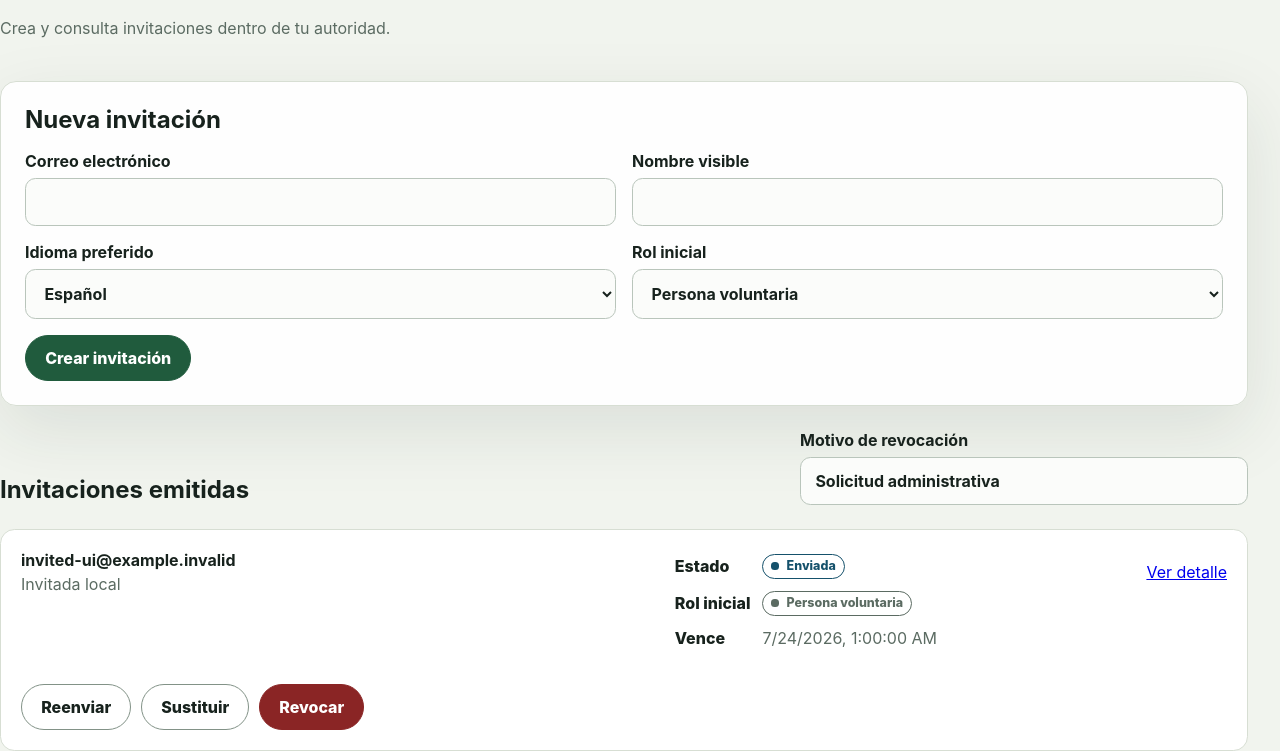
Test: InvitationsPage › requires confirmation before revoking an invitation
This screenshot has width=1280, height=751.
(page scrolled)
Click the button "Revocar" at (312, 706), box 259,684 -> 364,730
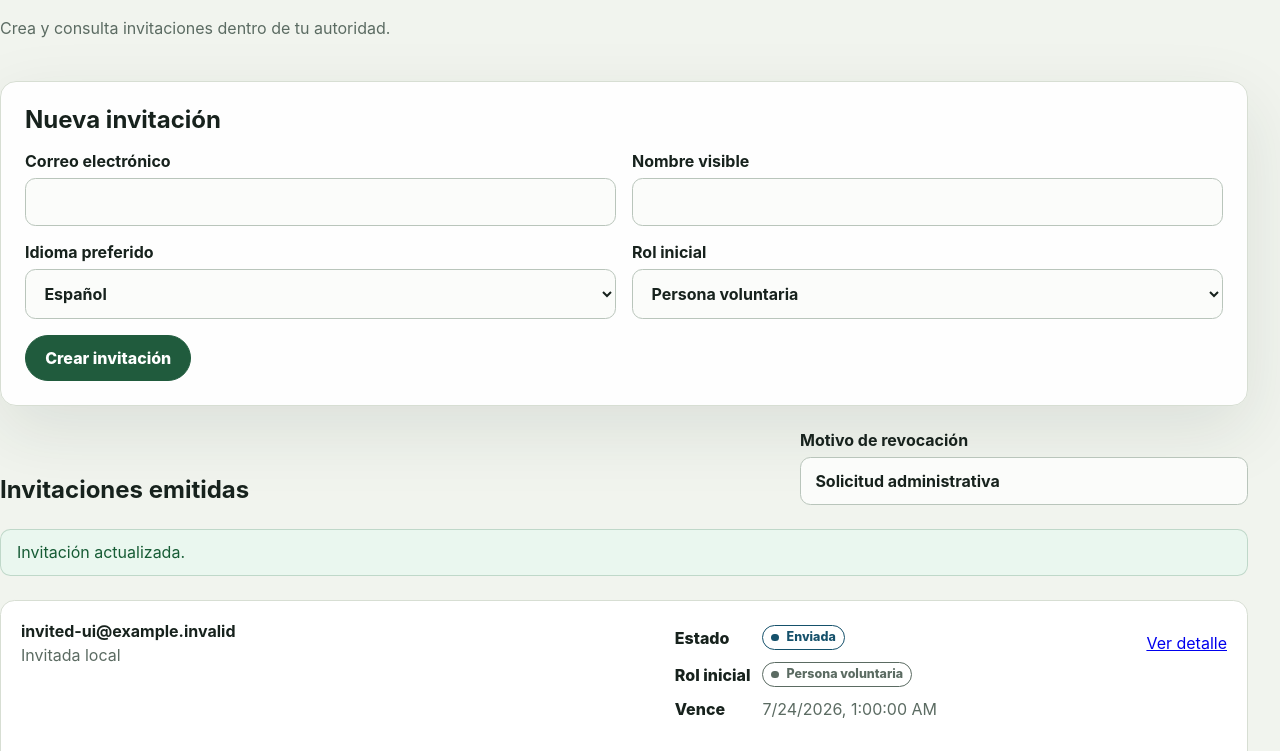
Check: the text "Invitación actualizada." is shown, box 0,529 -> 1248,576
